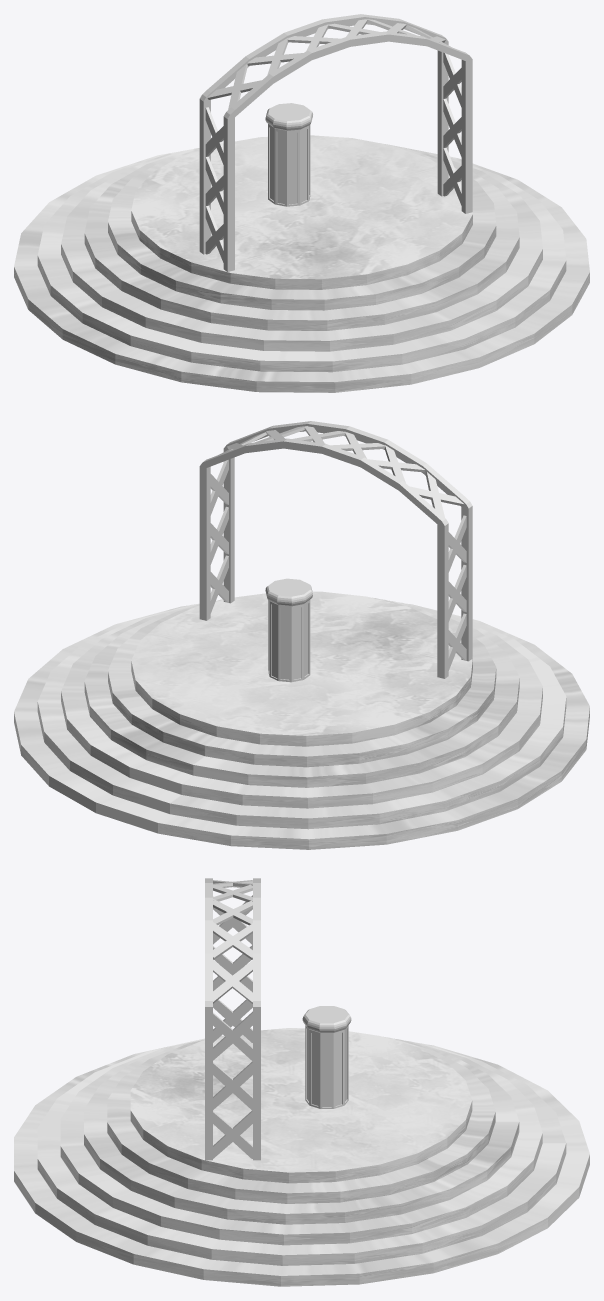
The model's file is lowpolypedastole.fbx.
3 views of the same model, one above another, from view 1: azimuth 30°, elevation 25°; view 2: azimuth 150°, elevation 25°; view 3: azimuth 270°, elevation 25° (orthographic).
Parts seen in each view (by area): view 1: Floor, Cube.001, Cylinder; view 2: Floor, Cube.001, Cylinder; view 3: Floor, Cube.001, Cylinder.
Boxes of the visible parts, box(x1,y1,x2,y2) form: Floor: box(14, 135, 589, 392); Cube.001: box(199, 14, 472, 271); Cylinder: box(265, 103, 312, 206); Floor: box(14, 591, 589, 849); Cube.001: box(199, 421, 472, 678); Cylinder: box(265, 578, 312, 682); Floor: box(14, 1028, 589, 1286); Cube.001: box(205, 878, 260, 1160); Cylinder: box(302, 1006, 351, 1108).
Size of the model in its own units: 1750 by 894 by 1746.
